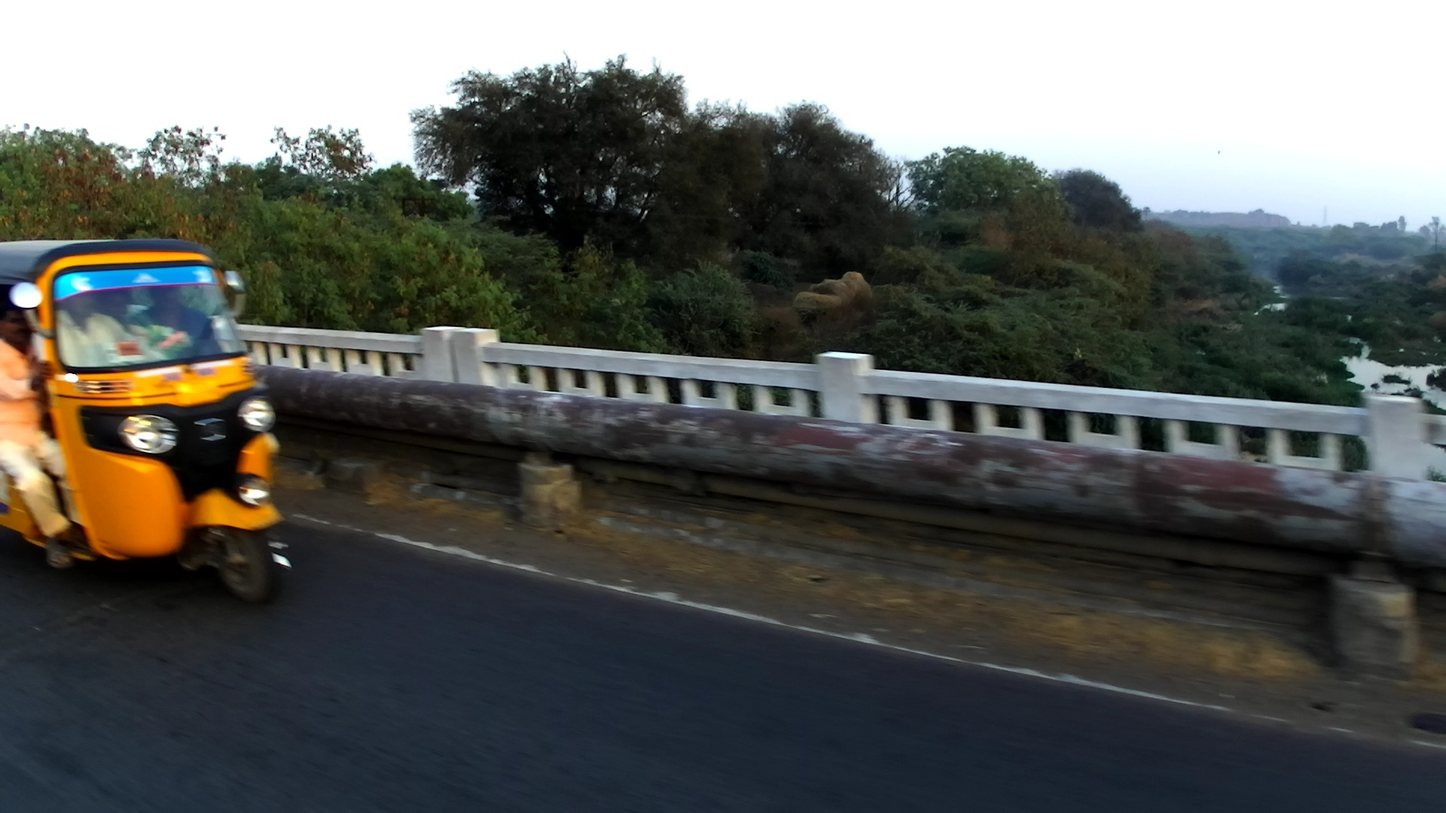autorickshaw: (0, 238, 297, 604)
